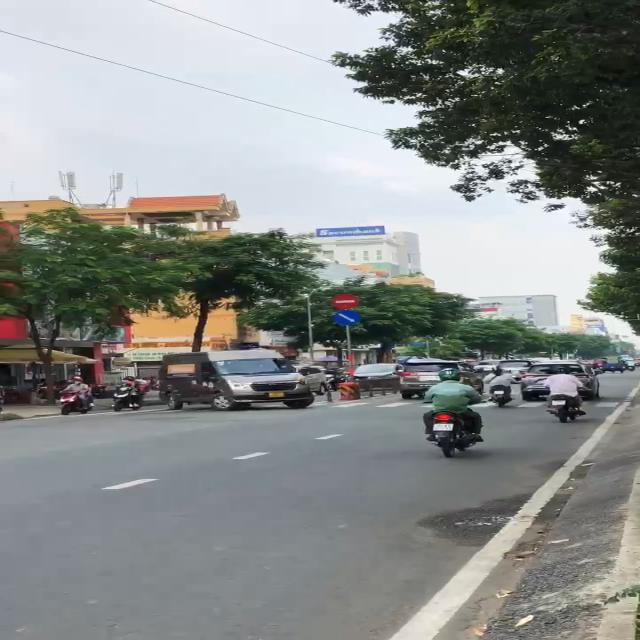Bien bao cam di nguoc chieu: (326, 291, 364, 309)
Bien bao huong phai di vong chuong ngai vat: (332, 309, 363, 328)
